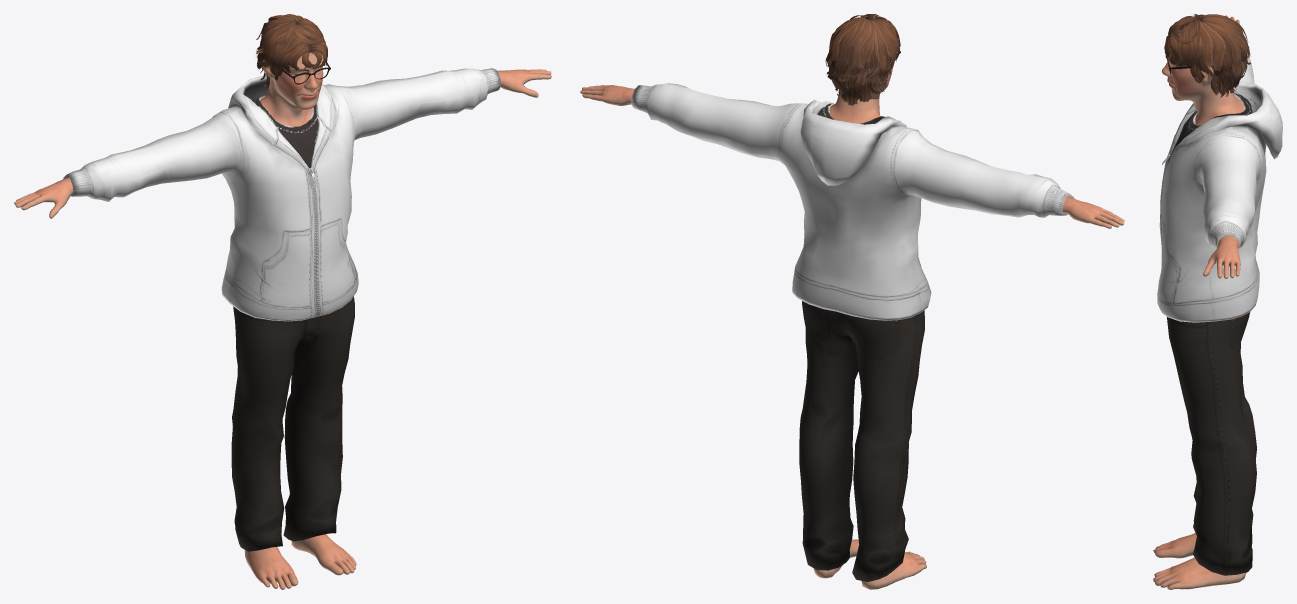
The picture shows the model from 3 angles, left to right: view 1: azimuth 30°, elevation 25°; view 2: azimuth 150°, elevation 25°; view 3: azimuth 270°, elevation 25°; orthographic projection.
Visible parts, largest first — view 1: Tops, Bottoms, Body, Hair; view 2: Tops, Bottoms, Hair, Body; view 3: Tops, Bottoms, Body, Hair.
Part boxes in pixels (x1=…): Tops: x1=63, y1=68, x2=500, y2=321; Bottoms: x1=231, y1=296, x2=354, y2=551; Body: x1=14, y1=46, x2=551, y2=589; Hair: x1=256, y1=14, x2=327, y2=87; Tops: x1=631, y1=83, x2=1074, y2=320; Bottoms: x1=799, y1=301, x2=924, y2=581; Hair: x1=825, y1=14, x2=900, y2=105; Body: x1=580, y1=61, x2=1124, y2=589; Tops: x1=1157, y1=53, x2=1282, y2=322; Bottoms: x1=1167, y1=312, x2=1256, y2=575; Body: x1=1153, y1=15, x2=1246, y2=589; Hair: x1=1164, y1=14, x2=1250, y2=97.
Size of the model in its own units: 186 by 181 by 38.62.
